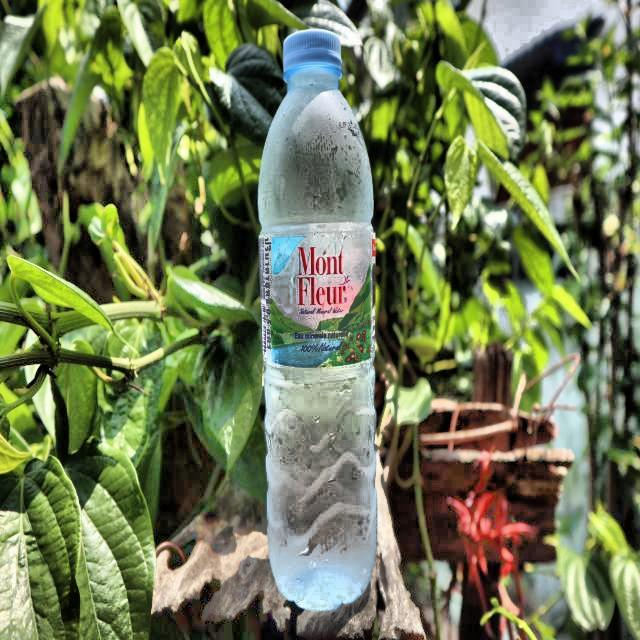plastic bottle: (259, 29, 376, 612)
